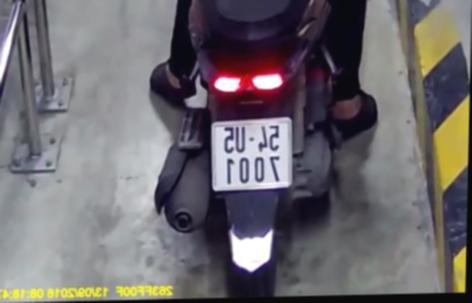License_Plate: (202, 114, 297, 200)
